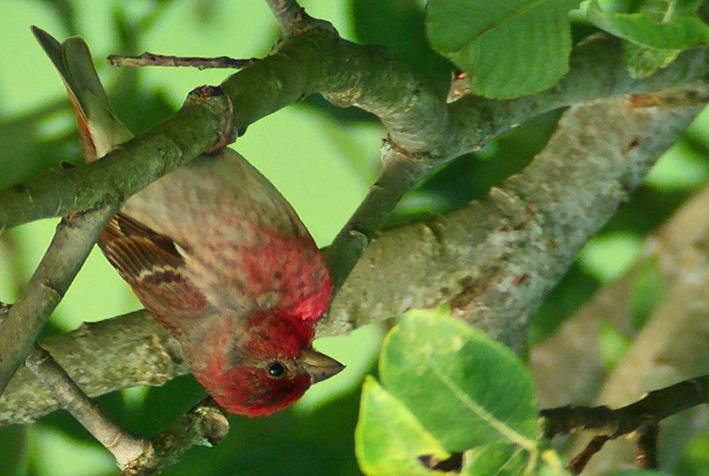rosefinch: (58, 50, 344, 422)
